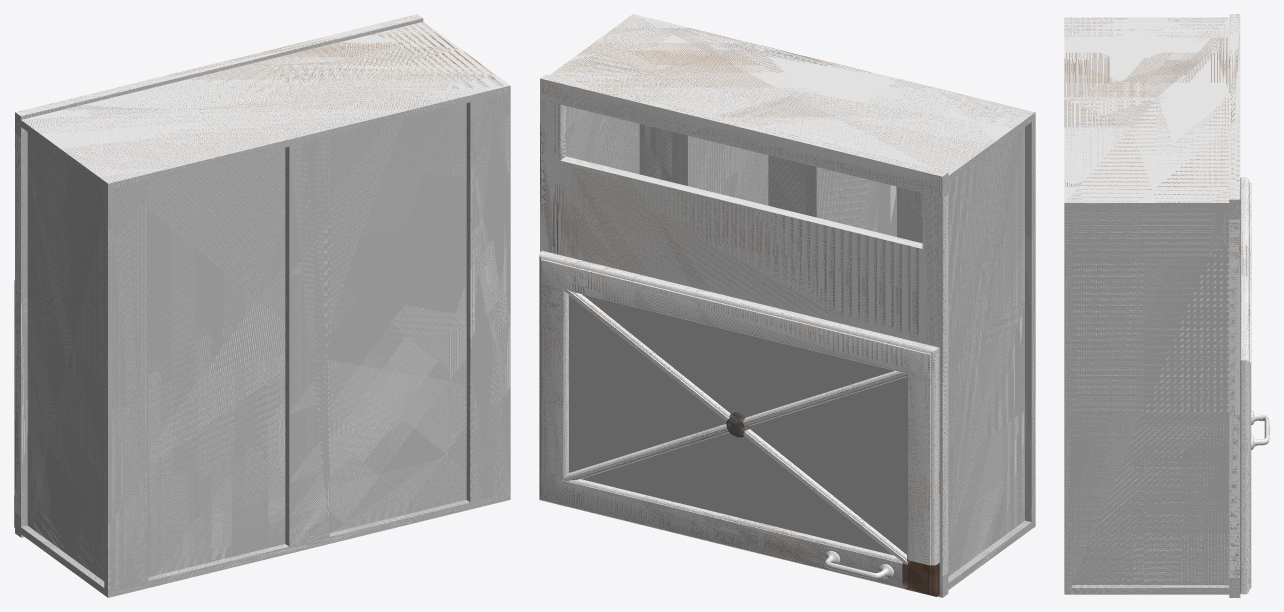
3 views of the same model, side by side, from view 1: azimuth 30°, elevation 25°; view 2: azimuth 150°, elevation 25°; view 3: azimuth 270°, elevation 25° (orthographic). The views are drawn at different scales.
Visible parts, largest first — view 1: mesh6_mesh6-geometry, mesh3_mesh3-geometry, mesh8_mesh8-geometry, mesh1_mesh1-geometry, mesh7_mesh7-geometry, mesh4_mesh4-geometry, mesh50_mesh50-geometry, mesh9_mesh9-geometry; view 2: mesh48_mesh48-geometry, mesh11_mesh11-geometry, mesh1_mesh1-geometry, mesh8_mesh8-geometry, mesh20_mesh20-geometry, mesh9_mesh9-geometry, mesh19_mesh19-geometry, mesh4_mesh4-geometry, mesh12_mesh12-geometry, mesh18_mesh18-geometry, mesh17_mesh17-geometry, mesh5_mesh5-geometry (+9 smaller); view 3: mesh2_mesh2-geometry, mesh8_mesh8-geometry, mesh4_mesh4-geometry, mesh3_mesh3-geometry, mesh9_mesh9-geometry, mesh17_mesh17-geometry, mesh20_mesh20-geometry, mesh7_mesh7-geometry, mesh14_mesh14-geometry, mesh21_mesh21-geometry, mesh13_mesh13-geometry.
Boxes of the visible parts, left/top/right/bottom form: mesh6_mesh6-geometry: left=148, top=103, right=466, bottom=577; mesh3_mesh3-geometry: left=104, top=92, right=510, bottom=590; mesh8_mesh8-geometry: left=21, top=22, right=510, bottom=190; mesh1_mesh1-geometry: left=27, top=132, right=104, bottom=581; mesh7_mesh7-geometry: left=21, top=493, right=510, bottom=597; mesh4_mesh4-geometry: left=15, top=133, right=27, bottom=516; mesh50_mesh50-geometry: left=231, top=422, right=268, bottom=556; mesh9_mesh9-geometry: left=15, top=14, right=423, bottom=137; mesh48_mesh48-geometry: left=569, top=294, right=906, bottom=555; mesh11_mesh11-geometry: left=560, top=156, right=922, bottom=343; mesh1_mesh1-geometry: left=566, top=106, right=1024, bottom=576; mesh8_mesh8-geometry: left=550, top=14, right=1035, bottom=182; mesh20_mesh20-geometry: left=568, top=258, right=906, bottom=372; mesh9_mesh9-geometry: left=540, top=74, right=948, bottom=197; mesh19_mesh19-geometry: left=568, top=479, right=907, bottom=588; mesh4_mesh4-geometry: left=540, top=99, right=948, bottom=576; mesh12_mesh12-geometry: left=678, top=133, right=896, bottom=236; mesh18_mesh18-geometry: left=907, top=376, right=939, bottom=565; mesh17_mesh17-geometry: left=539, top=286, right=568, bottom=475; mesh5_mesh5-geometry: left=639, top=124, right=922, bottom=243; mesh2_mesh2-geometry: left=1071, top=209, right=1229, bottom=584; mesh8_mesh8-geometry: left=1064, top=17, right=1229, bottom=209; mesh4_mesh4-geometry: left=1229, top=219, right=1240, bottom=577; mesh3_mesh3-geometry: left=1064, top=209, right=1071, bottom=587; mesh9_mesh9-geometry: left=1229, top=14, right=1240, bottom=219; mesh17_mesh17-geometry: left=1240, top=389, right=1251, bottom=563; mesh20_mesh20-geometry: left=1240, top=191, right=1251, bottom=349; mesh7_mesh7-geometry: left=1064, top=585, right=1229, bottom=594; mesh14_mesh14-geometry: left=1240, top=345, right=1251, bottom=390; mesh21_mesh21-geometry: left=1251, top=410, right=1269, bottom=449; mesh13_mesh13-geometry: left=1240, top=562, right=1251, bottom=594.
Size of the model in its own units: 0.6715 by 0.6715 by 0.3134.
